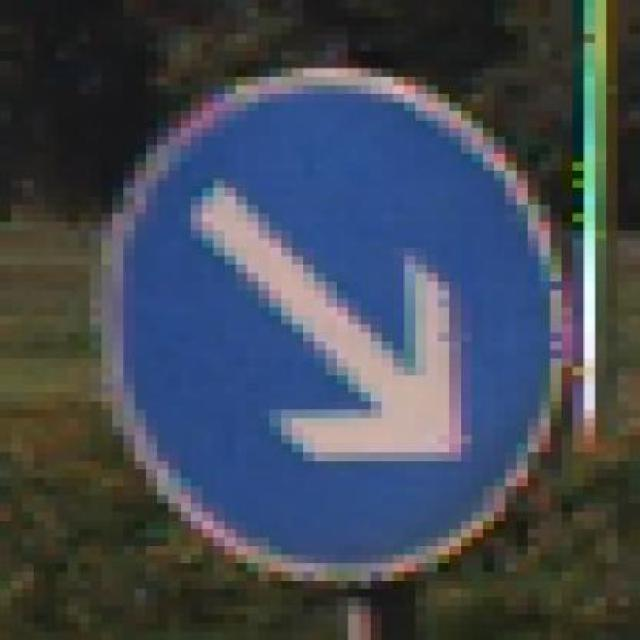Keep-Right: (56, 42, 573, 598)
